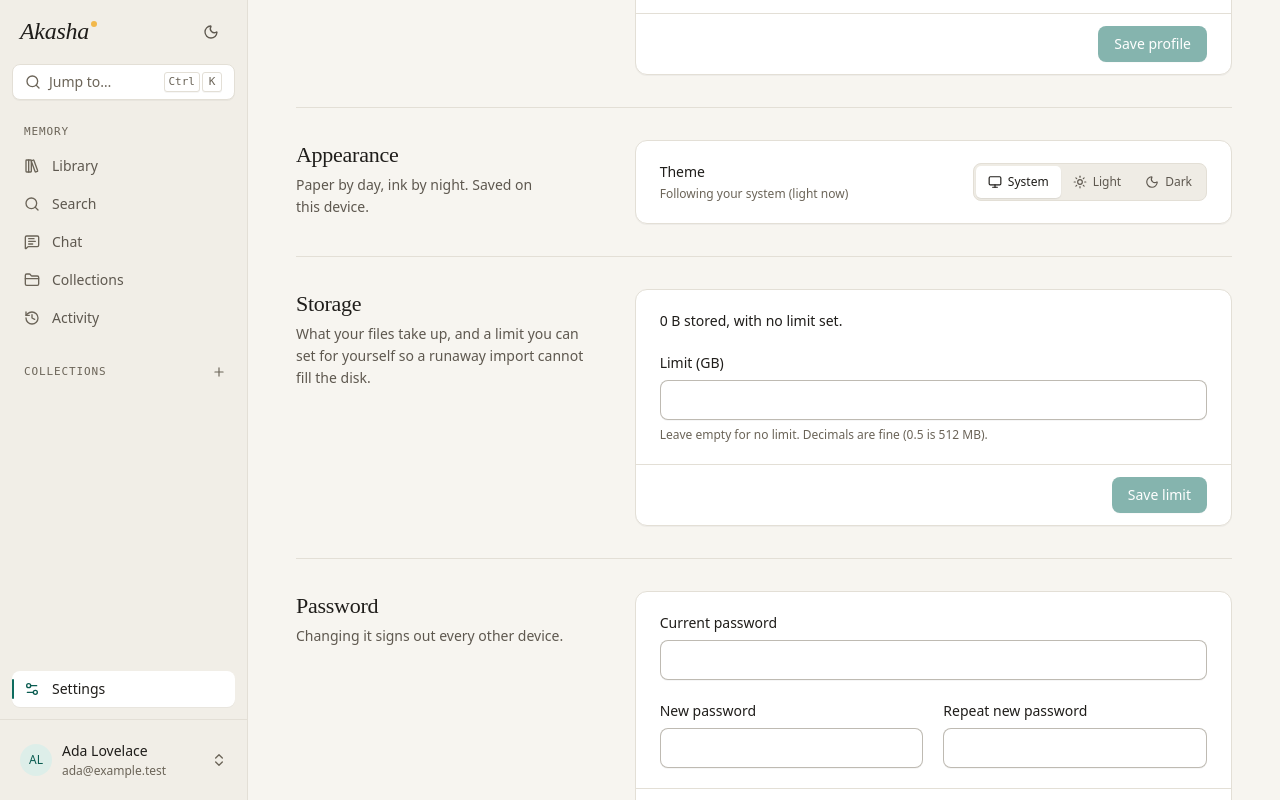
Test: settings → storage › saves a limit in GB as bytes
(page scrolled)
In the number field labelled "Limit (GB)": x=933, y=400 left=660, top=380, right=1207, bottom=420, type "2.5"
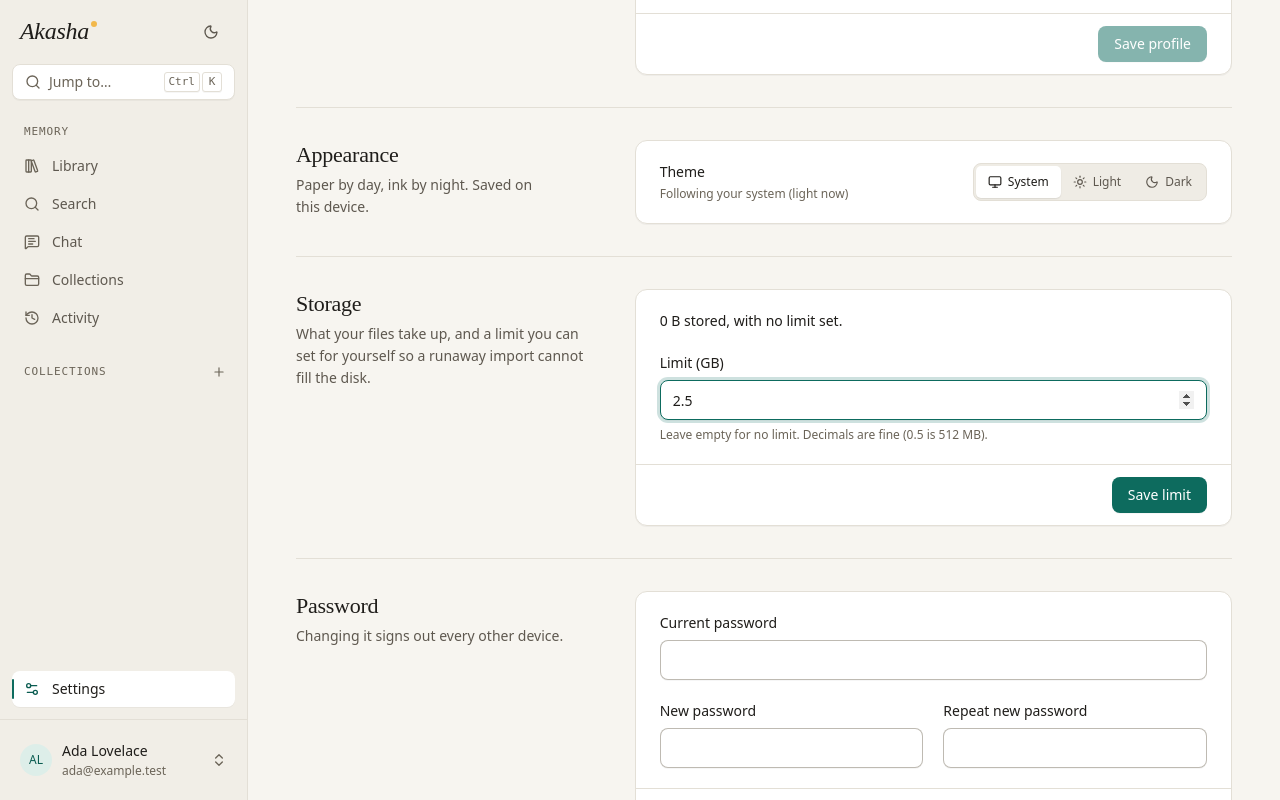
Click the button "Save limit": x=1159, y=495 left=1112, top=477, right=1207, bottom=513
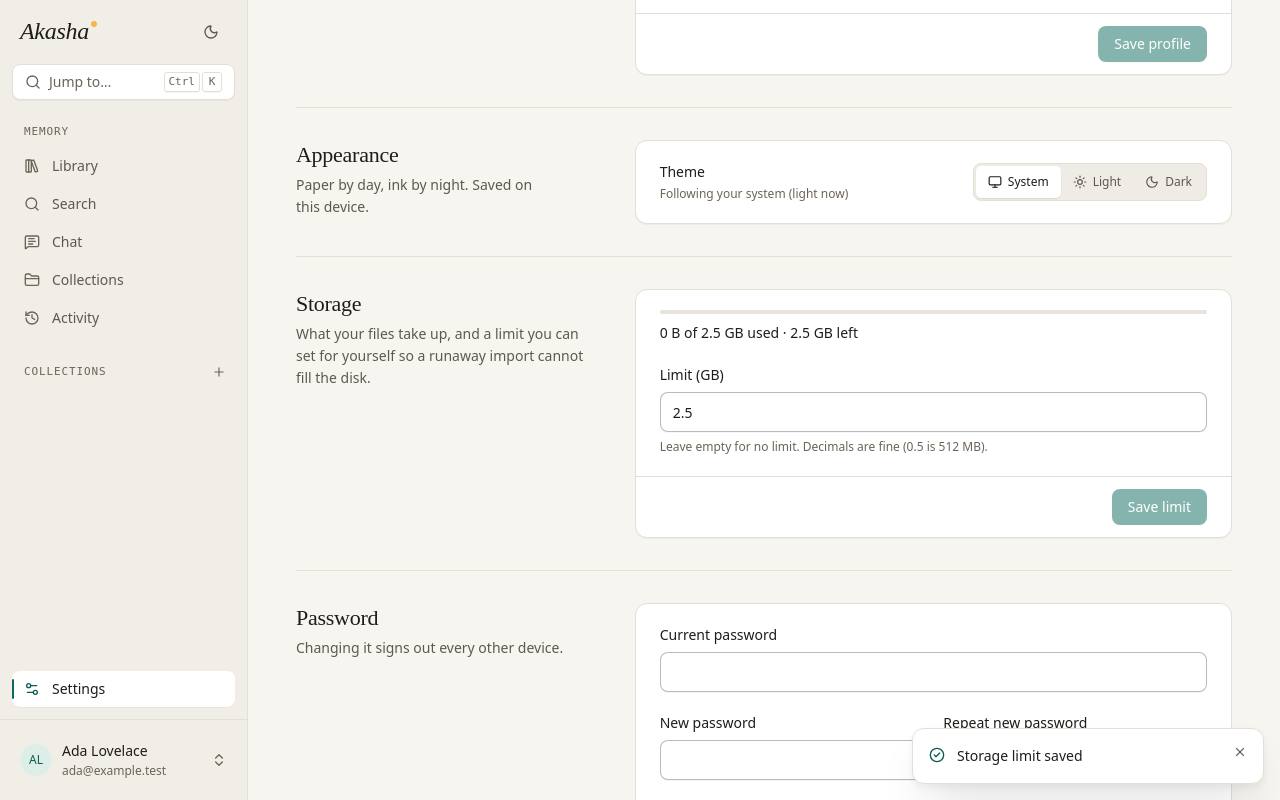
Now the text "0 B of 2.5 GB used · 2.5 GB left" is shown, box left=660, top=323, right=858, bottom=342
